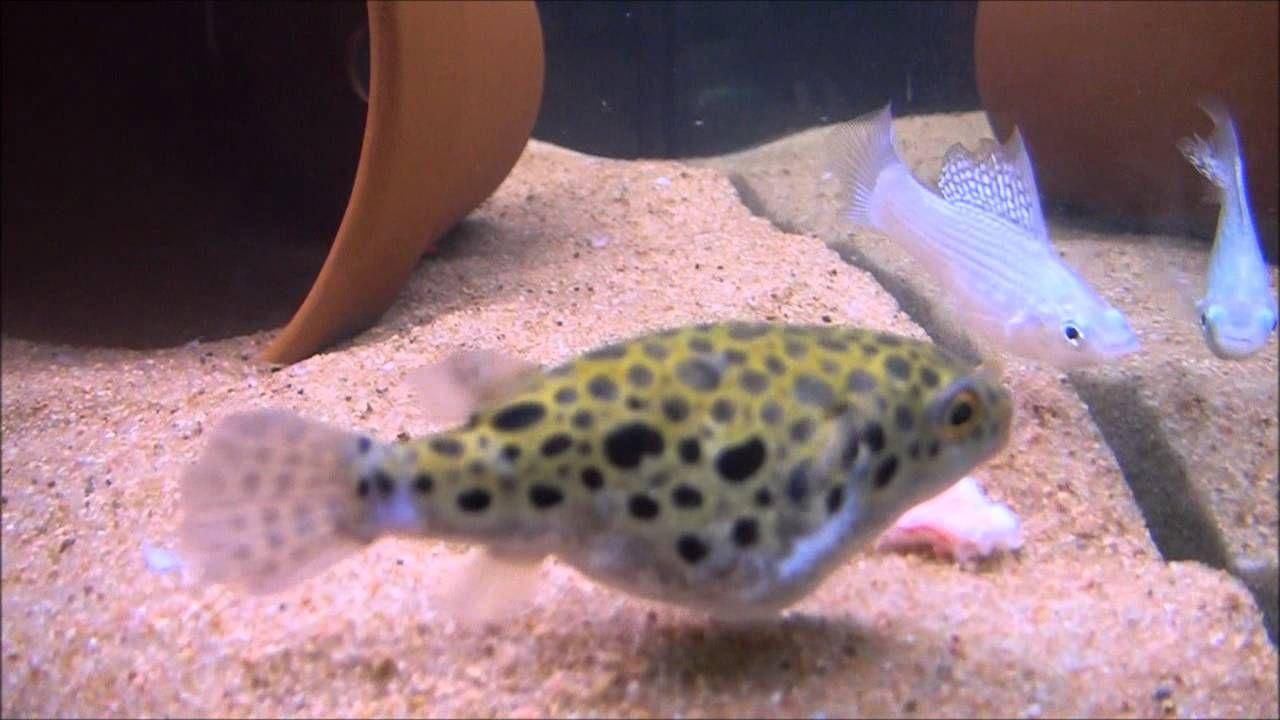Green Spotted Puffer: (183, 318, 1010, 620)
